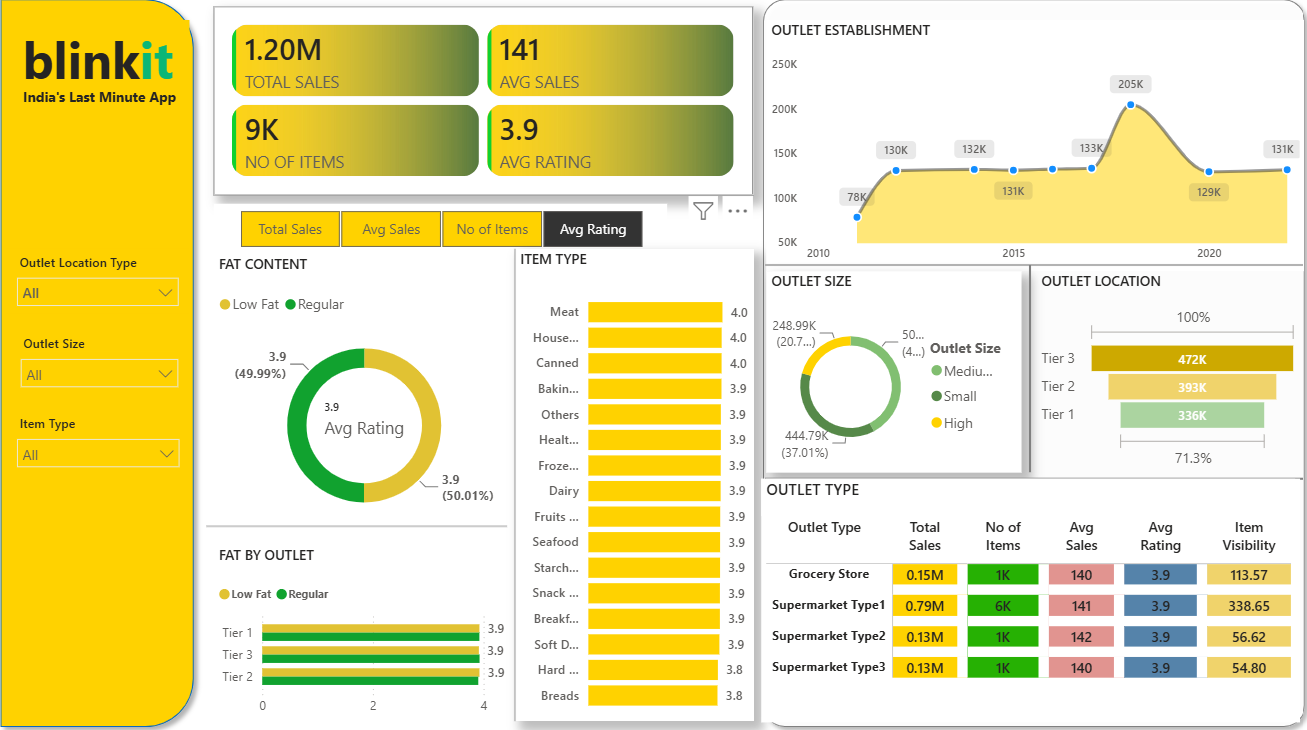

What the dashboard file says about the page in this screenshot:
{"tool":"powerbi","page":{"name":"Page 1","canvas":[1280,720],"ordinal":0},"visuals":[{"type":"shape","box":[1.4,0,204.5,720.4],"z":0},{"type":"textbox","box":[252.5,433.6,204.5,64.5],"z":1000},{"type":"textbox","box":[15.1,28.8,177,76.8],"z":2000},{"type":"textbox","box":[19.2,89.2,172.9,32.9],"z":3000},{"type":"cardVisual","fields":{"Data":["BlinkIT Grocery Data.Total Sales","BlinkIT Grocery Data.Avg Sales","BlinkIT Grocery Data.No of Items","BlinkIT Grocery Data.Avg Rating"]},"box":[216,15.7,521.2,182.2],"z":4000},{"type":"shape","box":[737.1,0,541.7,720.2],"z":5000},{"type":"donutChart","title":"FAT CONTENT","fields":{"Y":["BlinkIT Grocery Data.Avg Sales"],"Category":["BlinkIT Grocery Data.Item Fat Content"]},"box":[216,254.6,290.8,273.9],"z":6000},{"type":"slicer","fields":{"Values":["Metrics.Metrics"]},"box":[216,206.3,437.9,48.3],"z":7000},{"type":"cardVisual","fields":{"Data":["BlinkIT Grocery Data.Avg Sales"]},"box":[295.6,377.6,131.5,73.6],"z":8000},{"type":"clusteredBarChart","title":"FAT BY OUTLET","fields":{"Y":["BlinkIT Grocery Data.Avg Sales"],"Category":["BlinkIT Grocery Data.Outlet Location Type"],"Series":["BlinkIT Grocery Data.Item Fat Content"]},"box":[216,535.7,290.8,173.7],"z":9000},{"type":"shape","box":[208.7,511.5,290.8,12.1],"z":10000},{"type":"shape","box":[500.7,249.7,12.1,456],"z":11000},{"type":"barChart","title":" ITEM TYPE","fields":{"Y":["BlinkIT Grocery Data.Avg Sales"],"Category":["BlinkIT Grocery Data.Item Type"]},"box":[506.7,249.7,230.4,456],"z":12000},{"type":"lineChart","title":"OUTLET ESTABLISHMENT","fields":{"Category":["BlinkIT Grocery Data.Outlet Establishment Year"],"Y":["BlinkIT Grocery Data.Total Sales"]},"box":[749.2,29,520,242.5],"z":13000},{"type":"shape","box":[748,259.4,520,12.1],"z":14000},{"type":"donutChart","title":"OUTLET SIZE","fields":{"Category":["BlinkIT Grocery Data.Outlet Size"],"Y":["BlinkIT Grocery Data.Total Sales"]},"box":[749.2,271.4,246.1,194.2],"z":15000},{"type":"funnel","title":"OUTLET LOCATION","fields":{"Category":["BlinkIT Grocery Data.Outlet Location Type"],"Y":["Sum(BlinkIT Grocery Data.Sales)"]},"box":[1009.8,271.4,258.2,194.2],"z":16000},{"type":"shape","box":[997.7,265.4,12.1,200.3],"z":17000},{"type":"shape","box":[748,465.7,520,12.1],"z":18000},{"type":"pivotTable","title":"OUTLET TYPE","fields":{"Rows":["BlinkIT Grocery Data.Outlet Type"],"Values":["BlinkIT Grocery Data.Total Sales","BlinkIT Grocery Data.No of Items","BlinkIT Grocery Data.Avg Sales","BlinkIT Grocery Data.Avg Rating","select","Sum(BlinkIT Grocery Data.Item Visibility)"]},"box":[744.4,471.7,520,235],"z":19000},{"type":"slicer","fields":{"Values":["BlinkIT Grocery Data.Outlet Location Type"]},"box":[15.7,249.7,176.1,62.7],"z":20000},{"type":"slicer","fields":{"Values":["BlinkIT Grocery Data.Outlet Size"]},"box":[19.3,328.2,172.5,62.7],"z":21000},{"type":"slicer","fields":{"Values":["BlinkIT Grocery Data.Item Type"]},"box":[15.7,405.4,177.3,66.4],"z":22000}]}

Visuals, with their boxes in screenshot pixels (x1, y1, x2, y2), scaled from the page's 1280x720 canvas onto the 1307x730 screenshot:
shape: region(1, 0, 210, 729)
textbox: region(258, 440, 467, 505)
textbox: region(15, 29, 196, 107)
textbox: region(20, 90, 196, 124)
cardVisual - BlinkIT Grocery Data.Total Sales x BlinkIT Grocery Data.Avg Sales: region(221, 16, 753, 201)
shape: region(753, 0, 1306, 729)
"FAT CONTENT" donutChart: region(221, 258, 517, 536)
slicer - Metrics.Metrics: region(221, 209, 668, 258)
cardVisual - BlinkIT Grocery Data.Avg Sales: region(302, 383, 436, 457)
"FAT BY OUTLET" clusteredBarChart: region(221, 543, 517, 719)
shape: region(213, 519, 510, 531)
shape: region(511, 253, 524, 716)
" ITEM TYPE" barChart: region(517, 253, 753, 716)
"OUTLET ESTABLISHMENT" lineChart: region(765, 29, 1296, 275)
shape: region(764, 263, 1295, 275)
"OUTLET SIZE" donutChart: region(765, 275, 1016, 472)
"OUTLET LOCATION" funnel: region(1031, 275, 1295, 472)
shape: region(1019, 269, 1031, 472)
shape: region(764, 472, 1295, 484)
"OUTLET TYPE" pivotTable: region(760, 478, 1291, 717)
slicer - BlinkIT Grocery Data.Outlet Location Type: region(16, 253, 196, 317)
slicer - BlinkIT Grocery Data.Outlet Size: region(20, 333, 196, 396)
slicer - BlinkIT Grocery Data.Item Type: region(16, 411, 197, 478)
